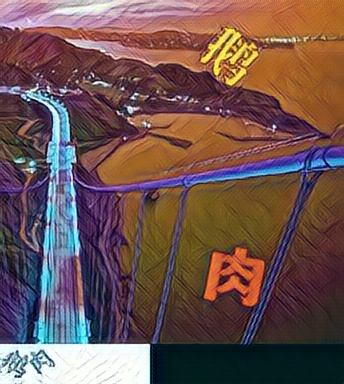B6EC: (197, 25, 262, 88)
C8E2: (201, 244, 266, 307)
